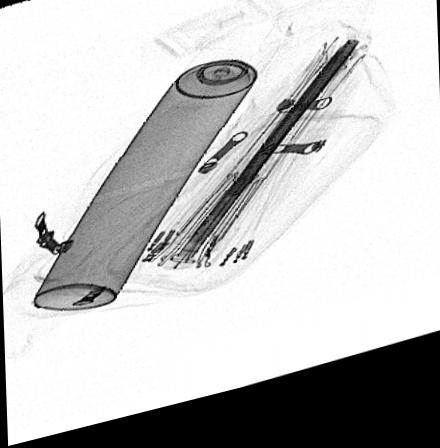Sprayer: (32, 35, 281, 315)
